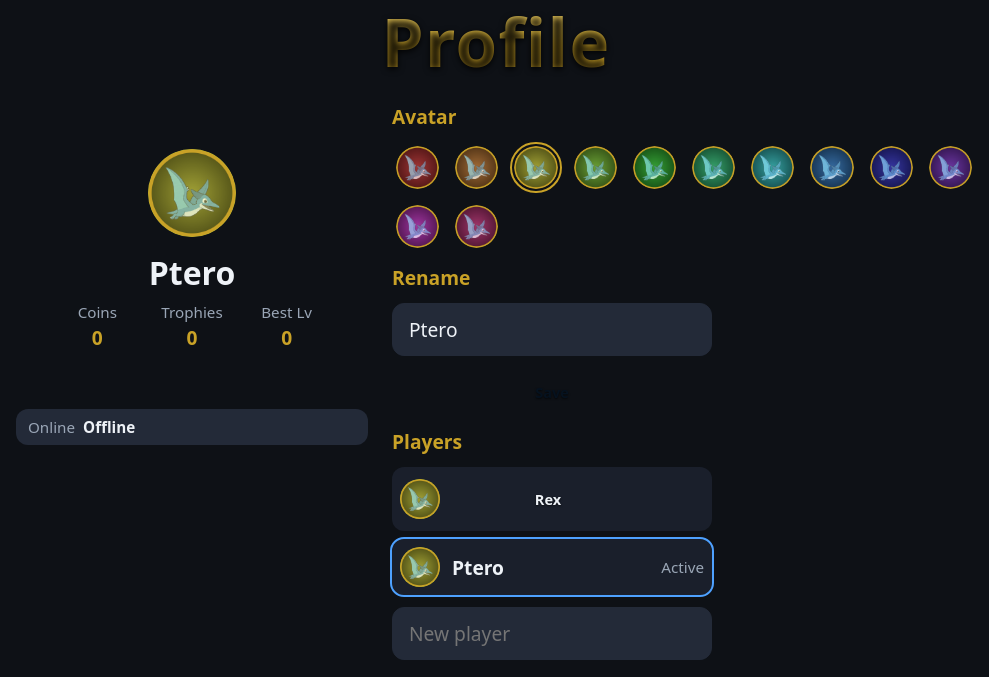
Scenario: ProfileScreen › trocar de perfil resincroniza o campo de renomear (não fica com o nome antigo)
Click the button "Rex" at x=548, y=499, box [452, 475, 644, 523]
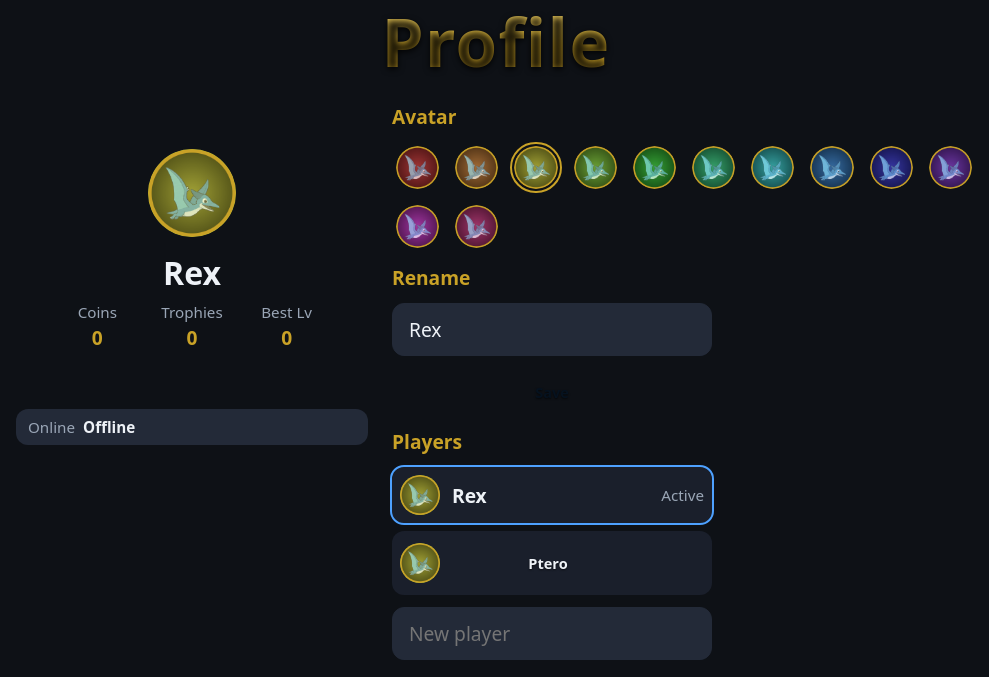
Expected: the field with test id "rename-input" holds "Rex", [392, 303, 712, 356]
